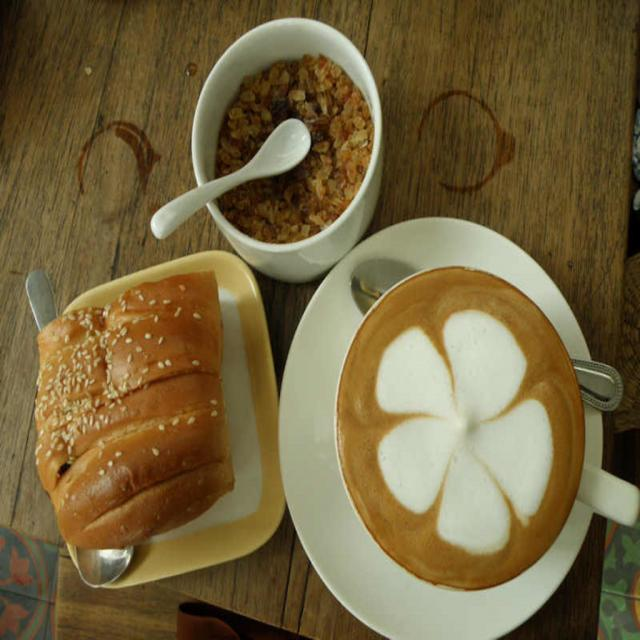latte: (336, 264, 585, 589)
